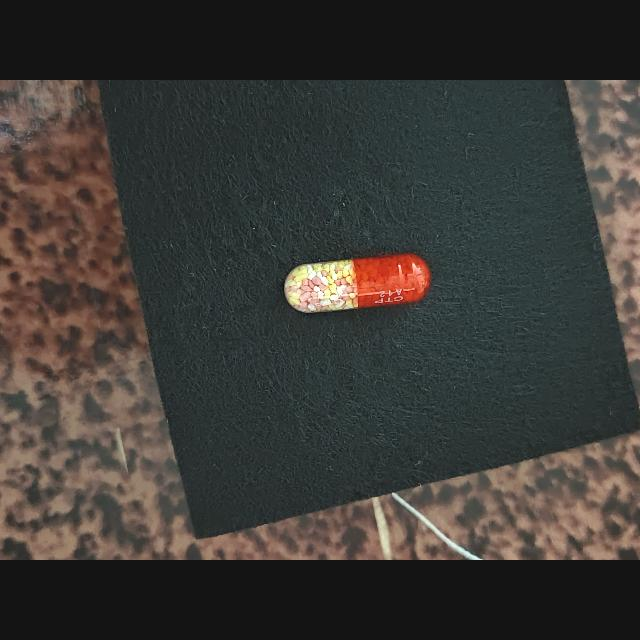Intact Capsule: (284, 253, 431, 313)
